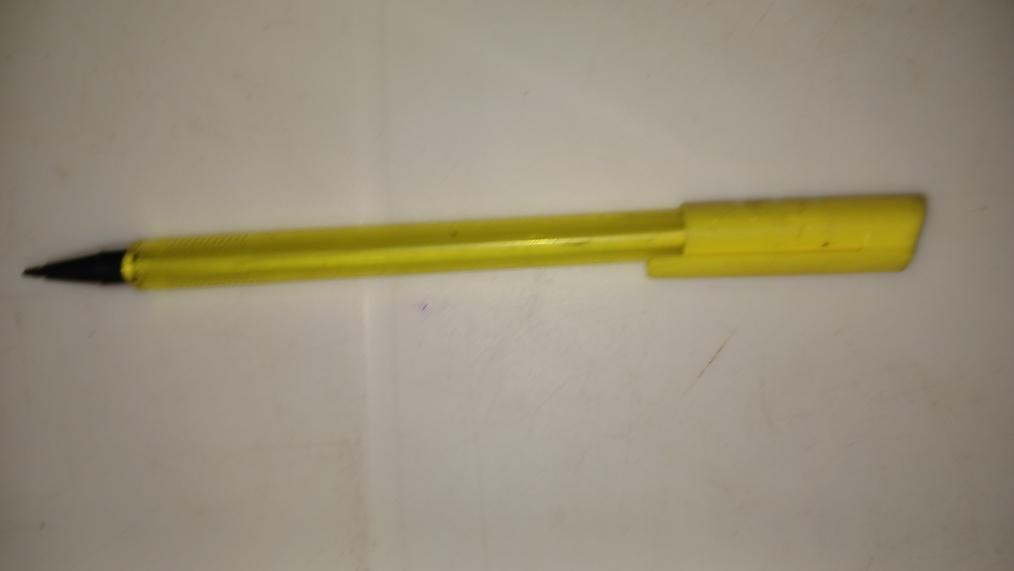pen: (17, 194, 925, 289)
